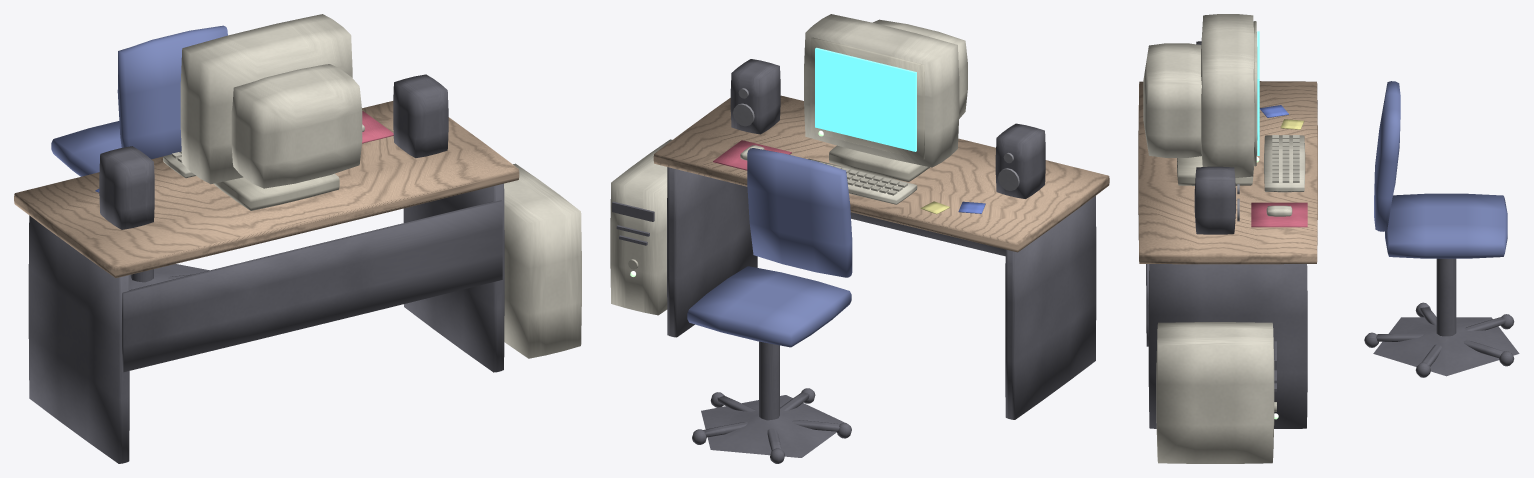
The model's file is retro_pc.glb.
3 renders of one model, left to right at view 1: azimuth 30°, elevation 25°; view 2: azimuth 150°, elevation 25°; view 3: azimuth 270°, elevation 25°, orthographic. The views are drawn at different scales.
Parts seen in each view (by area): view 1: retro_pc_body; view 2: retro_pc_body, Screen; view 3: retro_pc_body.
Part boxes in pixels (bbox=[...]): retro_pc_body: bbox=[14, 14, 581, 463]; retro_pc_body: bbox=[610, 14, 1109, 463]; Screen: bbox=[815, 47, 916, 151]; retro_pc_body: bbox=[1138, 14, 1519, 463].
Size of the model in its own units: 1.89 by 1.31 by 1.49.
13 materials, 10 textured.
